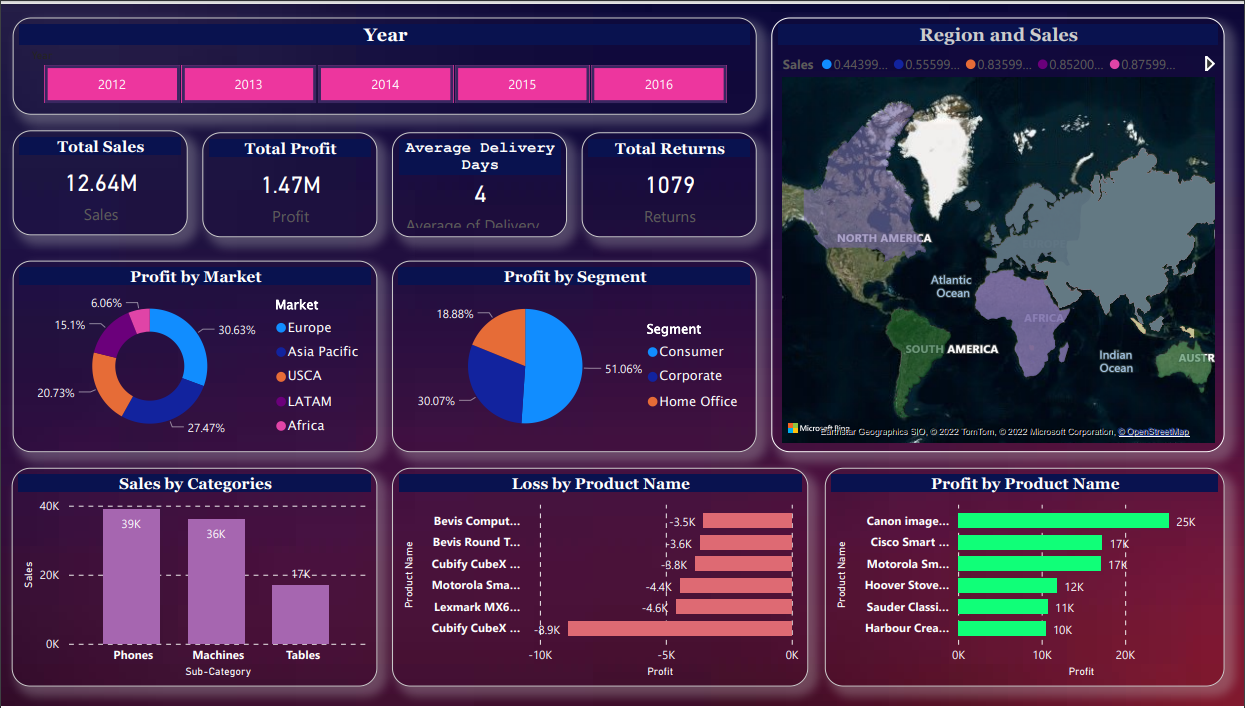

What the dashboard file says about the page in this screenshot:
{"tool":"powerbi","page":{"name":"Page 1","canvas":[1280,720],"ordinal":0},"visuals":[{"type":"slicer","title":"Year","fields":{"Values":["Orders.Year"]},"box":[13.3,13.3,765,100.4],"z":0},{"type":"filledMap","fields":{"Series":["Orders.Sales"],"Category":["Orders.Region"]},"box":[793.4,13.3,465.8,446.9],"z":1000},{"type":"pieChart","fields":{"Category":["Orders.Segment"],"Y":["Sum(Orders.Profit)"]},"box":[403.3,263.2,374.9,196.9],"z":2000},{"type":"donutChart","fields":{"Y":["Sum(Orders.Profit)"],"Category":["Orders.Market"]},"box":[13.3,263.2,374.9,196.9],"z":3000},{"type":"card","title":"Total Sales","fields":{"Values":["Sum(Orders.Sales)"]},"box":[13.3,128.8,179.9,107.9],"z":4000},{"type":"card","title":"Total Profit","fields":{"Values":["Sum(Orders.Profit)"]},"box":[208.3,130.7,179.9,107.9],"z":5000},{"type":"card","title":"Average Delivery Days","fields":{"Values":["Avg(Orders.Delivery days)"]},"box":[403.3,130.7,179.9,107.9],"z":6000},{"type":"card","title":"Total Returns ","fields":{"Values":["Sum(Returns.Returns)"]},"box":[598.3,130.7,179.9,107.9],"z":7000},{"type":"clusteredBarChart","fields":{"Category":["Orders.Product Name"],"Y":["Sum(Orders.Profit)"]},"box":[848.1,476.4,410.8,224.9],"z":8000},{"type":"columnChart","title":"Sales by Categories","fields":{"Y":["Sum(Orders.Sales)"],"Category":["Orders.Sub-Category"]},"box":[12.5,476.4,376.4,224.9],"z":9000},{"type":"clusteredBarChart","title":"Loss by Product Name","fields":{"Category":["Orders.Product Name"],"Y":["Sum(Orders.Profit)"]},"box":[403,476.4,427.9,224.9],"z":10000}]}

Visuals, with their boxes in screenshot pixels (x1, y1, x2, y2), scaled from the page's 1280x720 canvas onto the 1245x708 screenshot:
"Year" slicer: bbox=(13, 13, 757, 112)
filledMap - Orders.Sales x Orders.Region: bbox=(772, 13, 1225, 453)
pieChart - Orders.Segment x Sum(Orders.Profit): bbox=(392, 259, 757, 452)
donutChart - Sum(Orders.Profit) x Orders.Market: bbox=(13, 259, 378, 452)
"Total Sales" card: bbox=(13, 127, 188, 233)
"Total Profit" card: bbox=(203, 129, 378, 235)
"Average Delivery Days" card: bbox=(392, 129, 567, 235)
"Total Returns " card: bbox=(582, 129, 757, 235)
clusteredBarChart - Orders.Product Name x Sum(Orders.Profit): bbox=(825, 468, 1224, 690)
"Sales by Categories" columnChart: bbox=(12, 468, 378, 690)
"Loss by Product Name" clusteredBarChart: bbox=(392, 468, 808, 690)
